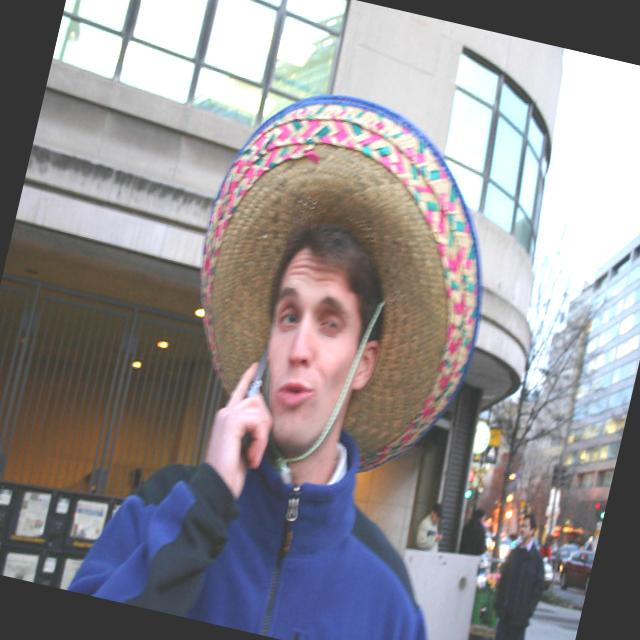Vehicle: (556, 544, 595, 594), (546, 538, 580, 574), (537, 560, 558, 591)
